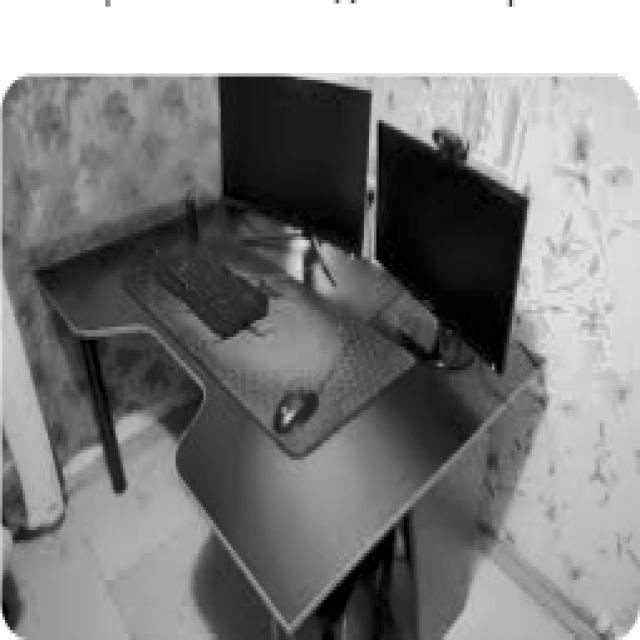table: (33, 193, 547, 637)
